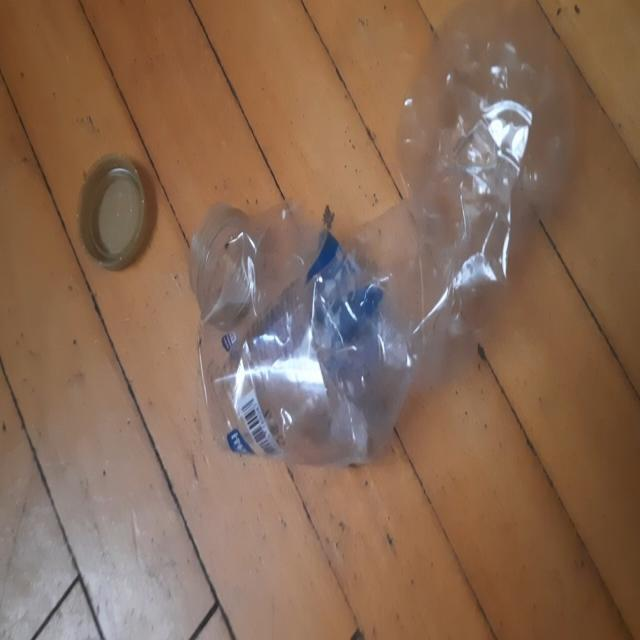Plastic: (194, 12, 536, 468)
